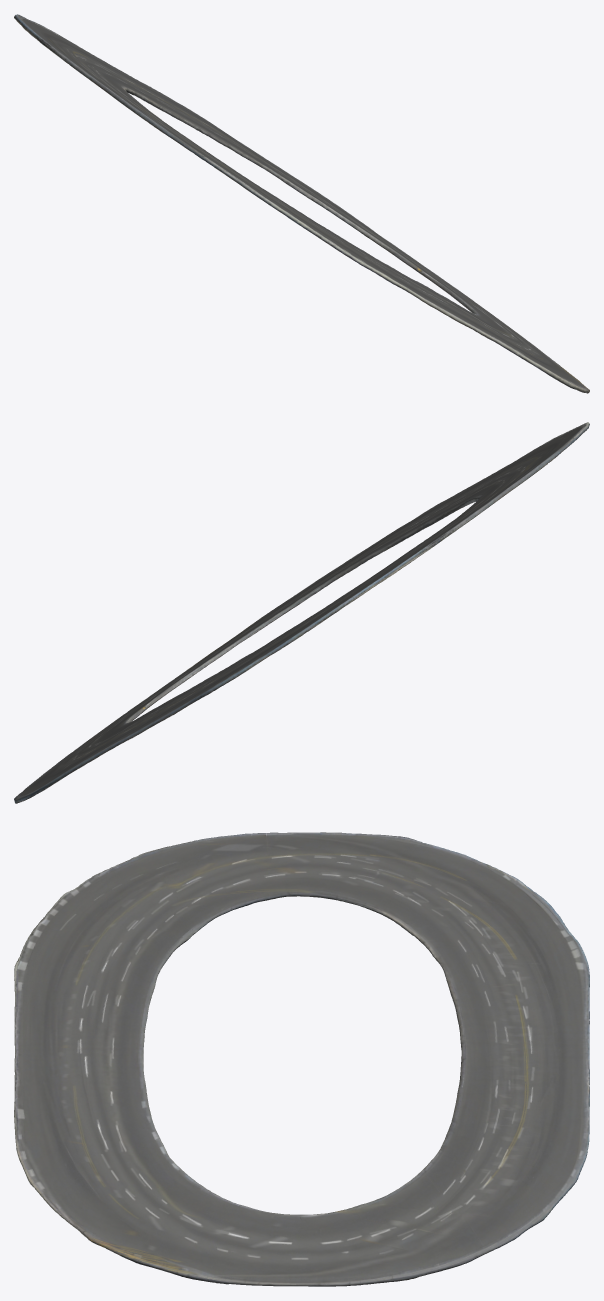
File: AI_Road4LaneCurve.fbx
3 views of the same model, one above another, from view 1: azimuth 30°, elevation 25°; view 2: azimuth 150°, elevation 25°; view 3: azimuth 270°, elevation 25° (orthographic). The views are drawn at different scales.
Visible parts, largest first — view 1: Mesh_0; view 2: Mesh_0; view 3: Mesh_0.
Boxes of the visible parts, x1,y1,x2,y2 form: Mesh_0: (14, 14, 589, 393); Mesh_0: (14, 422, 589, 803); Mesh_0: (14, 832, 589, 1286).
Size of the model in its own units: 138 by 111 by 201.
Materials: 1 (1 with a texture image).
